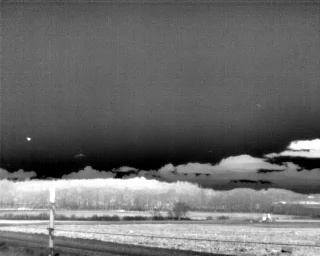DRONE: (24, 133, 34, 144)
